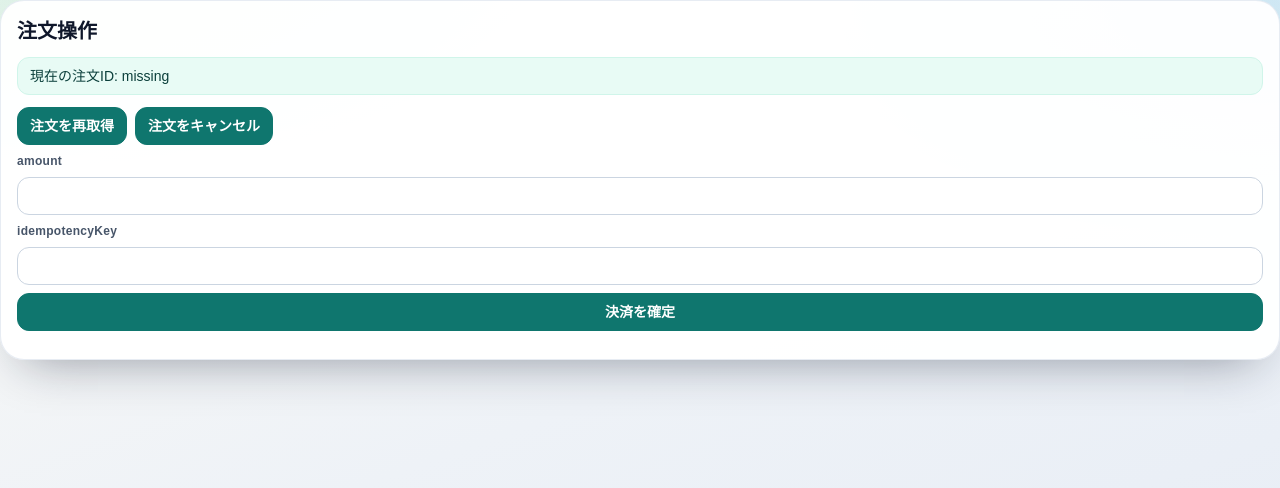
OrderActionsPanel › 注文参照404のとき not found を表示する
Step 1. Click the button "注文を再取得" → {"x": 72, "y": 126}, box [17,107,127,145]
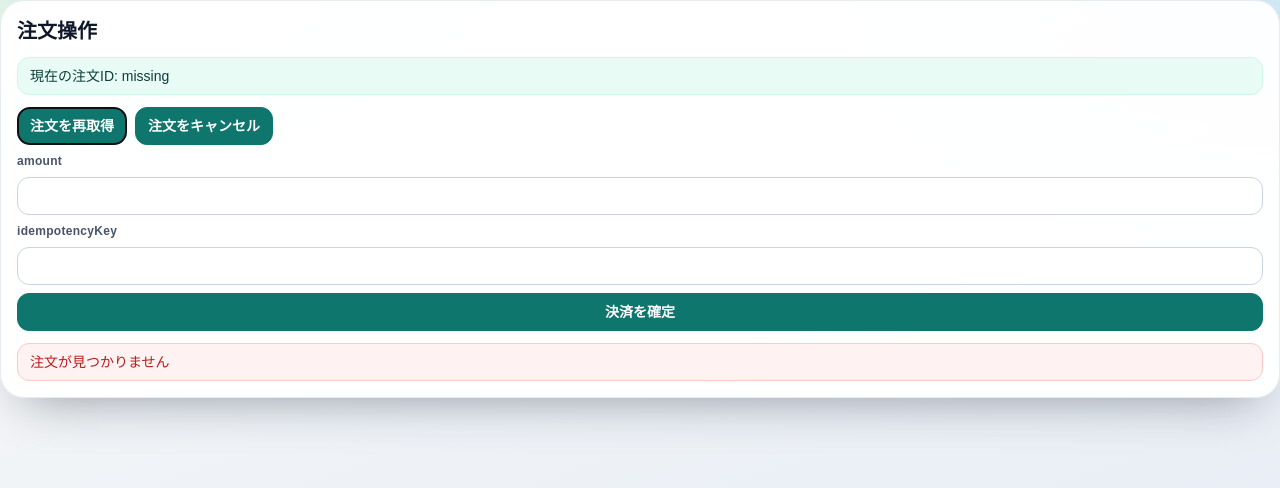
Now the text "注文が見つかりません" is shown, box [17,343,1263,381]
